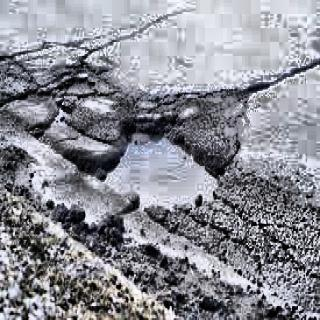alligator-crack: (175, 197, 311, 300), (5, 54, 105, 126)
crack: (73, 10, 194, 68), (246, 56, 320, 104)
pothole: (76, 102, 220, 216)
